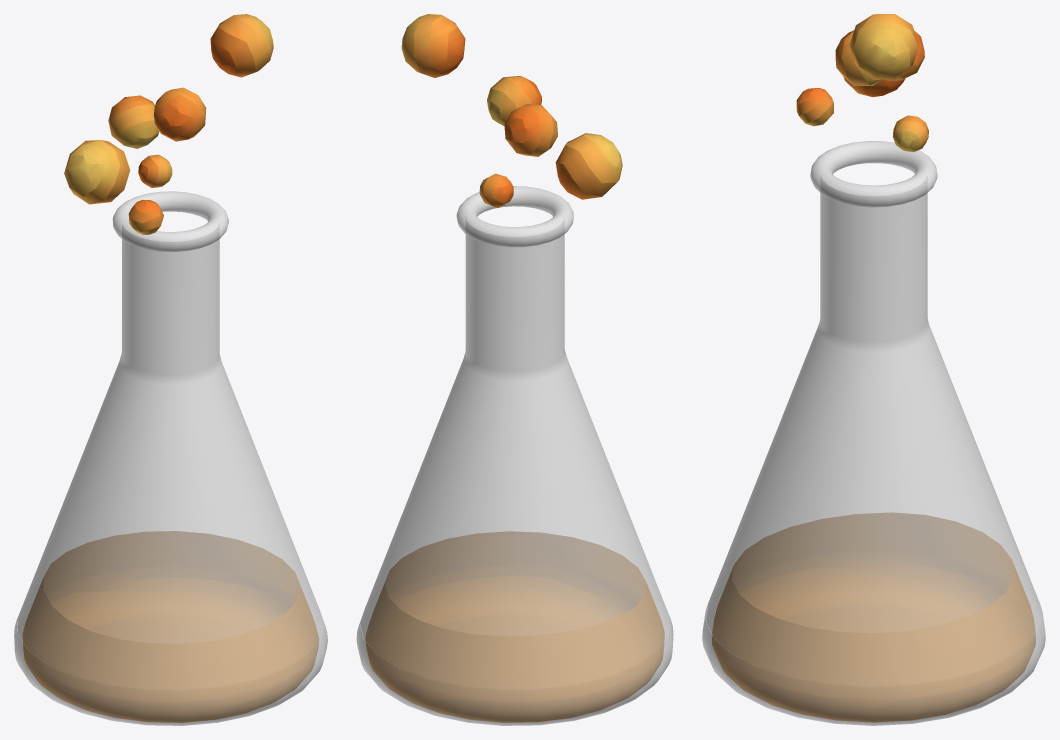
The model's file is flask.glb.
3 renders of one model, left to right at view 1: azimuth 30°, elevation 25°; view 2: azimuth 150°, elevation 25°; view 3: azimuth 270°, elevation 25°, orthographic. The views are drawn at different scales.
Parts seen in each view (by area): view 1: Merged Objects 1, liquid - baked, Merged Objects - baked; view 2: Merged Objects 1, liquid - baked, Merged Objects - baked; view 3: Merged Objects 1, liquid - baked, Merged Objects - baked.
Boxes of the visible parts, x1=… form: Merged Objects 1: x1=14, y1=191, x2=327, y2=725; liquid - baked: x1=23, y1=531, x2=318, y2=722; Merged Objects - baked: x1=64, y1=14, x2=273, y2=234; Merged Objects 1: x1=356, y1=186, x2=673, y2=725; liquid - baked: x1=365, y1=531, x2=664, y2=722; Merged Objects - baked: x1=401, y1=14, x2=622, y2=207; Merged Objects 1: x1=702, y1=141, x2=1045, y2=725; liquid - baked: x1=712, y1=512, x2=1035, y2=722; Merged Objects - baked: x1=796, y1=14, x2=928, y2=152.
Bounding box in the file's own units: 0.0113 × 0.025 × 0.0113.
Materials: 3 (1 with a texture image).
